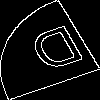D: (24, 24, 93, 81)
